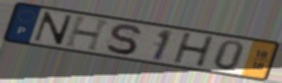0: (212, 39, 245, 71)
1: (152, 29, 175, 63)
H: (63, 15, 114, 53), (172, 32, 216, 68)
N: (31, 10, 75, 46)
S: (104, 23, 143, 56)
